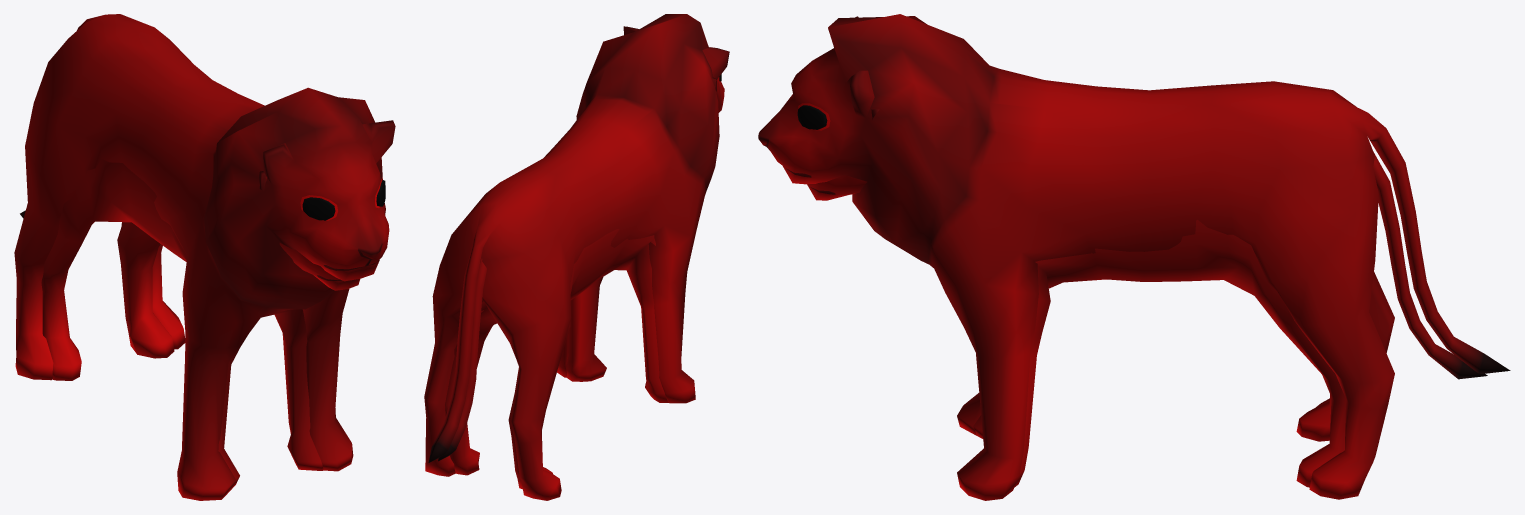
File: Animals_Lion.fbx
3 renders of one model, left to right at view 1: azimuth 30°, elevation 25°; view 2: azimuth 150°, elevation 25°; view 3: azimuth 270°, elevation 25°, orthographic. The views are drawn at different scales.
Visible parts, largest first — view 1: alt604, alt605; view 2: alt604, alt605; view 3: alt604, alt605.
Part boxes in pixels (x1,y1,x2,y2): alt604: (14,14,395,500); alt605: (41,159,360,489); alt604: (424,14,729,500); alt605: (438,77,716,489); alt604: (758,14,1510,500); alt605: (807,109,1487,487).
Bounding box in the file's own units: 66.99 × 156 × 240.
